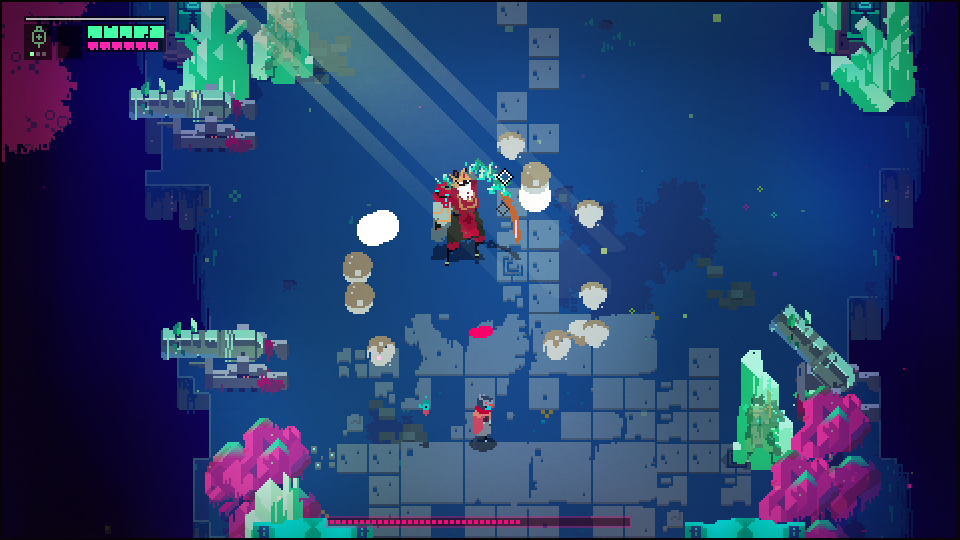hanged_man: (428, 157, 522, 270)
player: (469, 395, 493, 449)
